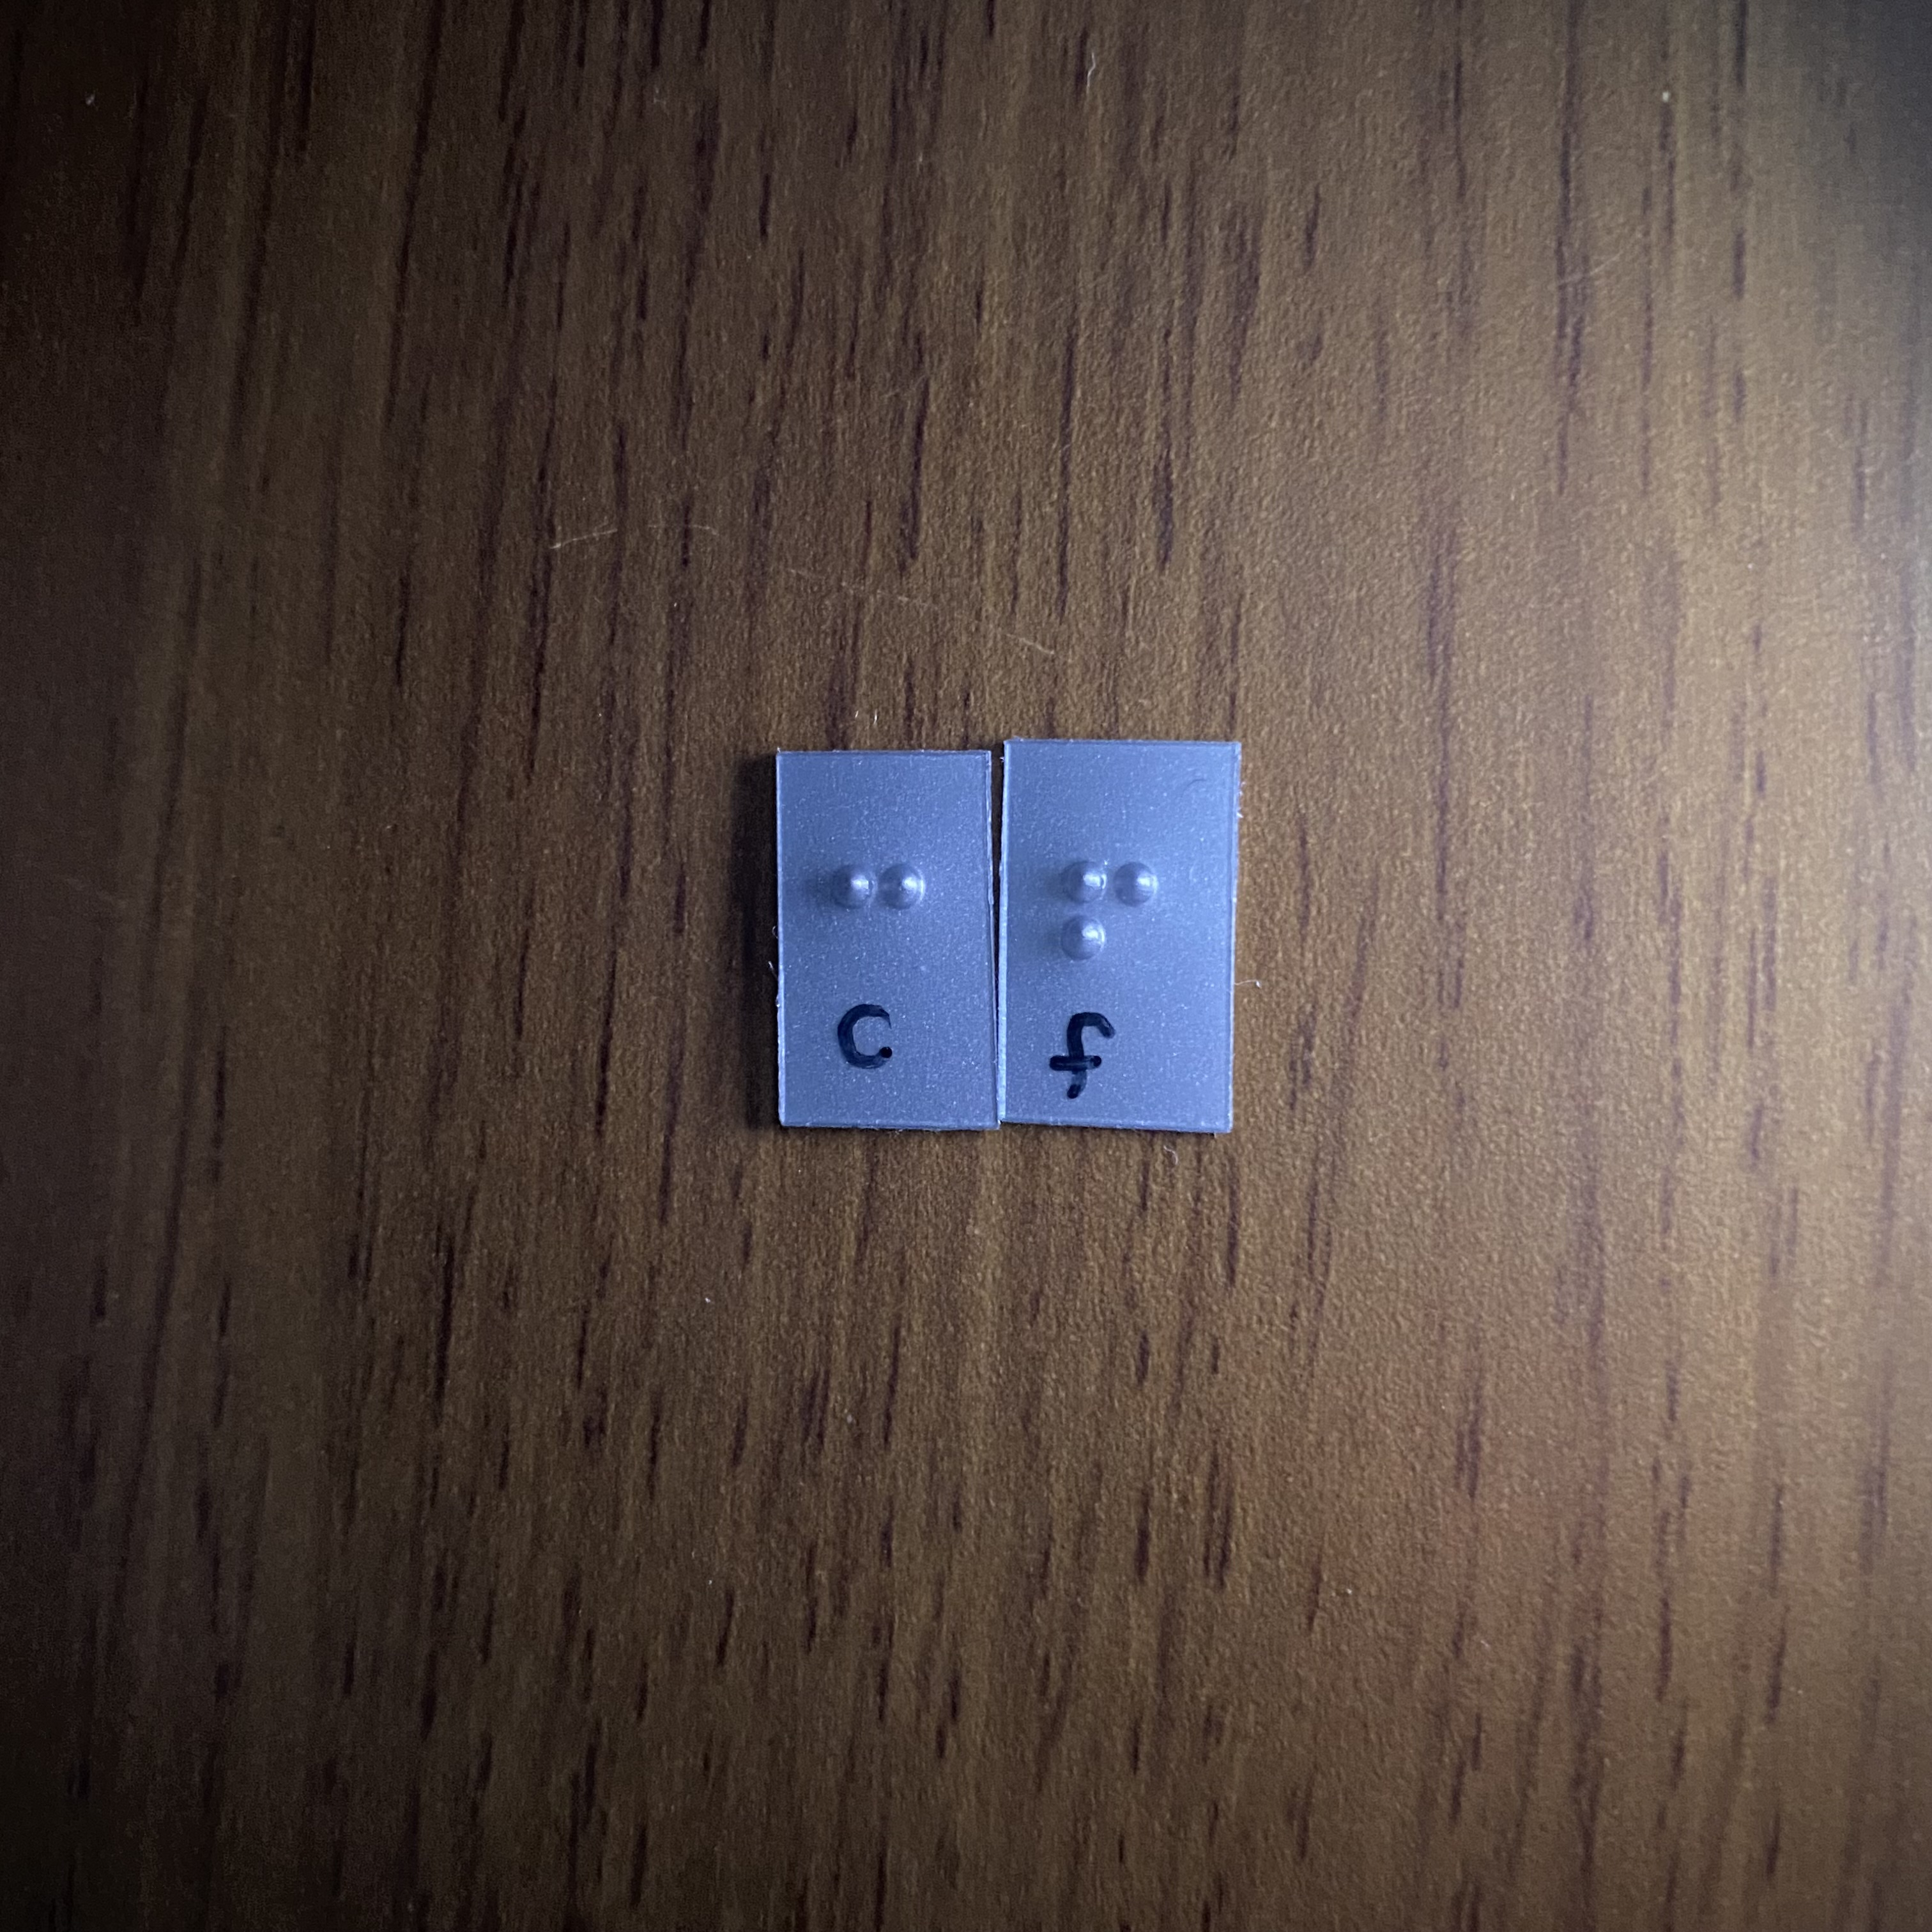c: (809, 850, 935, 1055)
f: (1043, 846, 1172, 1048)
